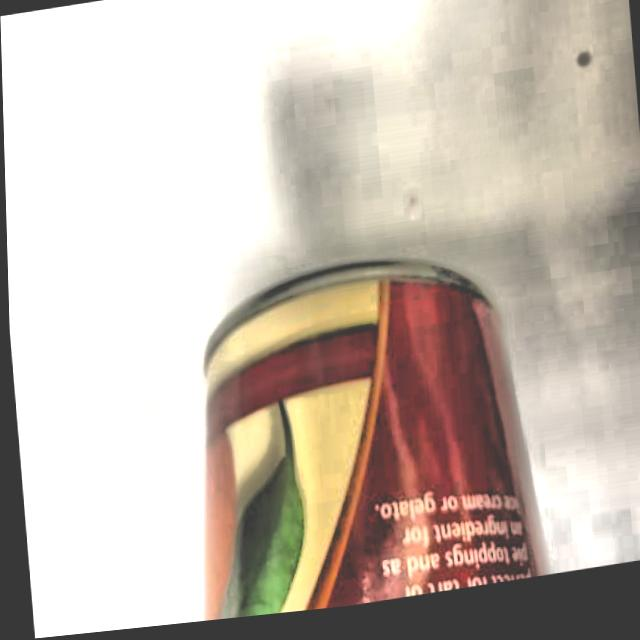Cans: (144, 209, 564, 629)
